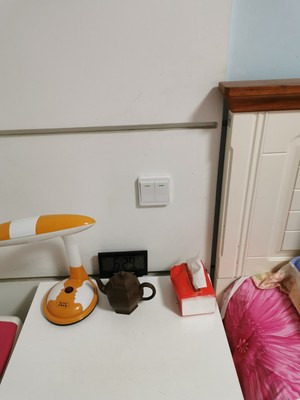switch: (137, 178, 156, 205), (154, 178, 170, 204)
